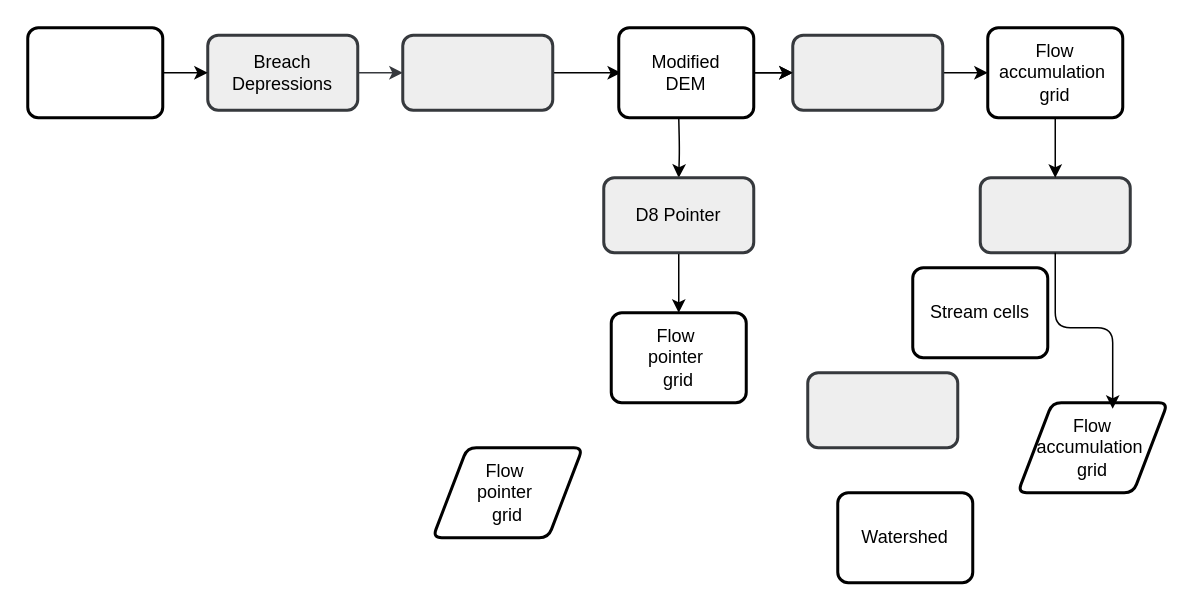
Image size: 1194x609. Some labels were removed from this diagram. The shapes that lost their labels are listed below. From the top down, each one's box as (x1, y1, x2, y2) in pixels, then its label:
(26, 26, 164, 118): DEM
(400, 33, 554, 111): Fill Depressions
(790, 33, 944, 111): D8 Flow Accumulation
(978, 176, 1131, 254): Extract Streams
(806, 370, 958, 448): Unnest Basins
